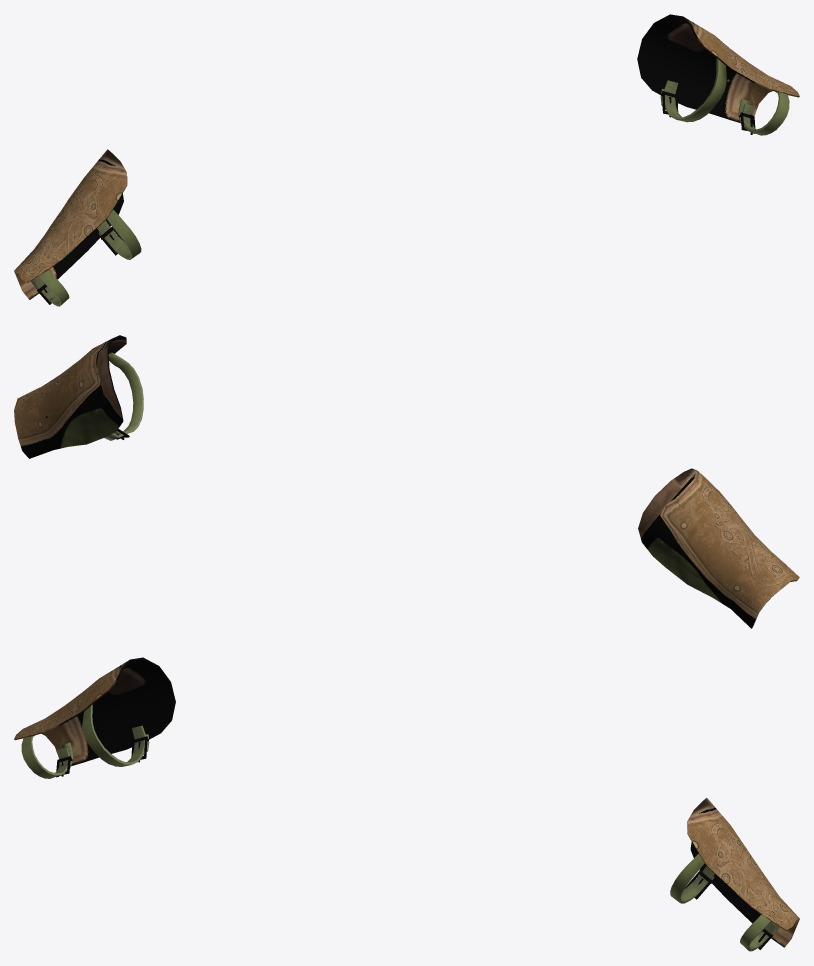
Rendered from cts_rohan_armguard1.fbx.
The picture shows the model from 3 angles, top to bottom: view 1: azimuth 30°, elevation 25°; view 2: azimuth 150°, elevation 25°; view 3: azimuth 330°, elevation 25°; orthographic projection.
Parts seen in each view (by area): view 1: cts_rohan_armguard1; view 2: cts_rohan_armguard1; view 3: cts_rohan_armguard1.
Part boxes in pixels (x1,y1,x2,y2): cts_rohan_armguard1: [14, 14, 799, 306]; cts_rohan_armguard1: [14, 335, 799, 628]; cts_rohan_armguard1: [14, 657, 799, 951].
Size of the model in its own units: 1.37 by 0.1541 by 0.2331.
1 material, 1 textured.
